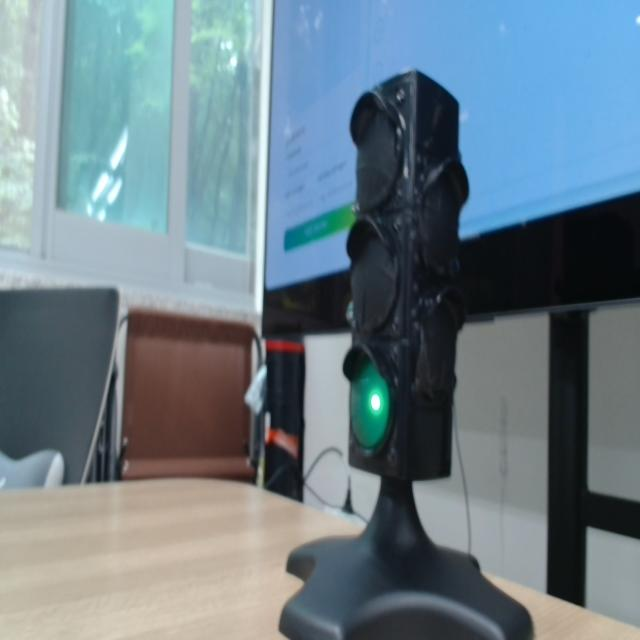green_light: (350, 358, 390, 450), (371, 393, 382, 412)
